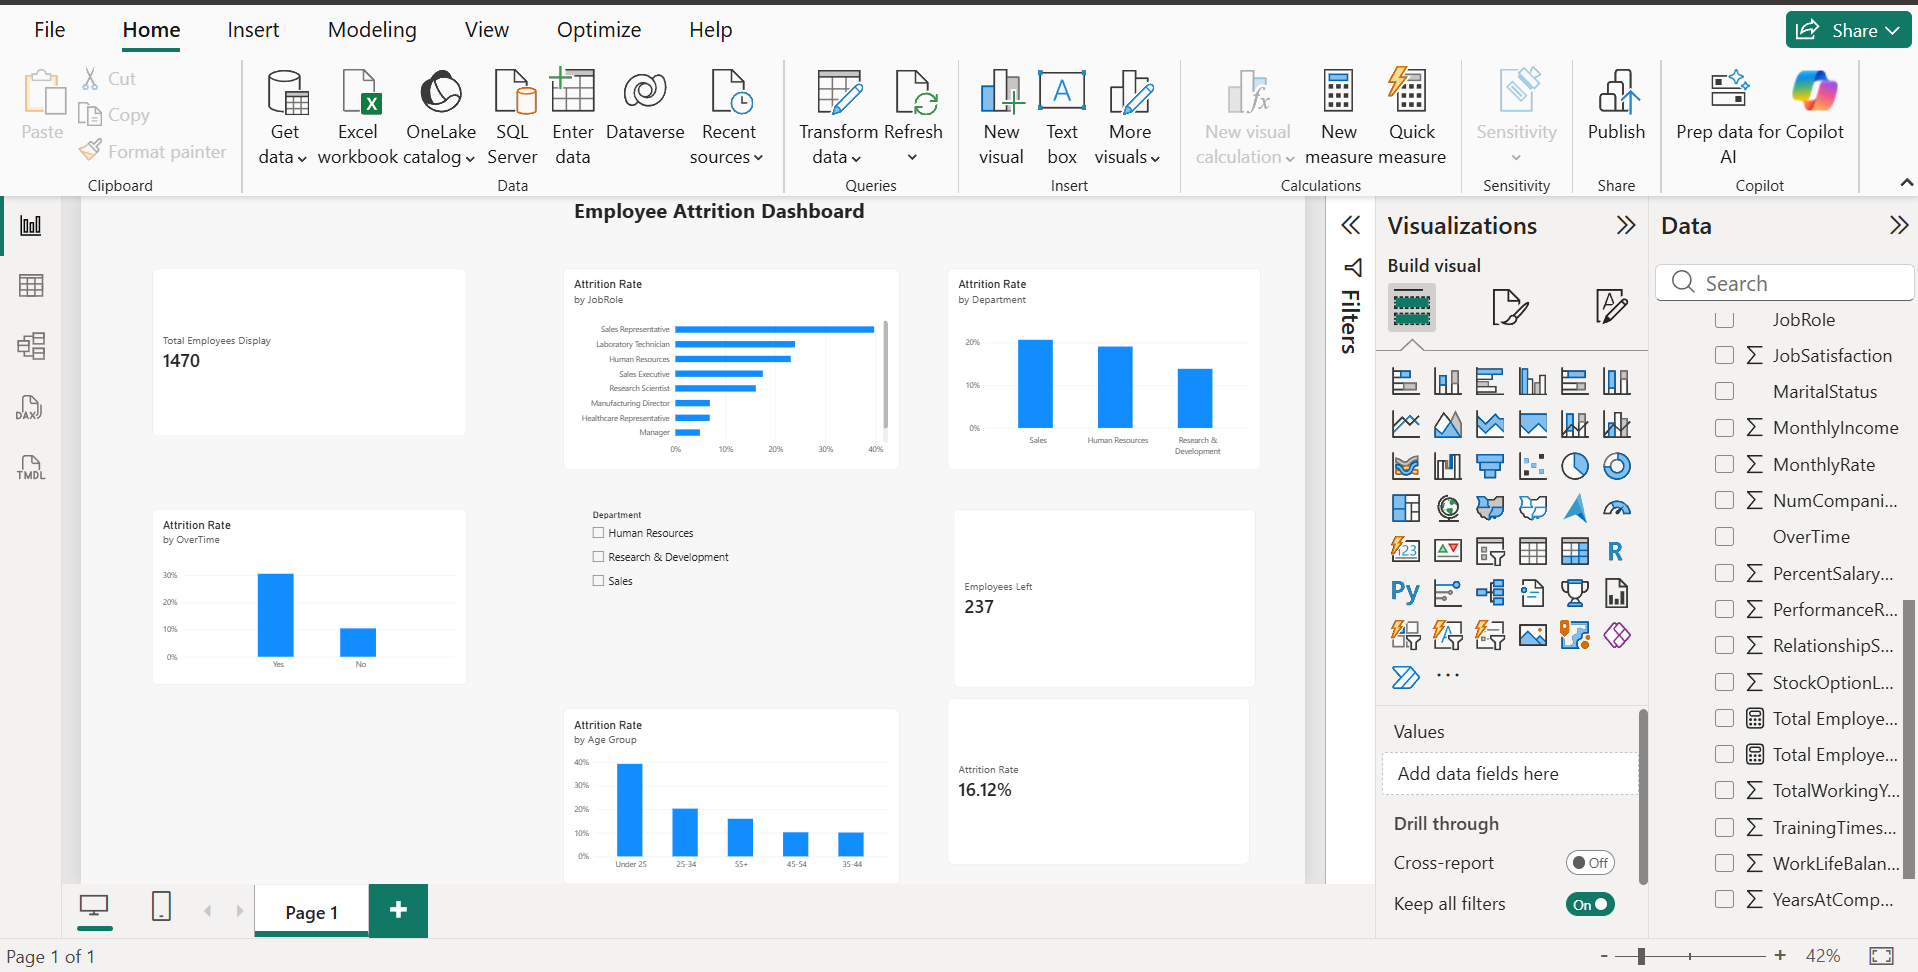

Layout of this report page (visuals, bound fields, positions):
{"tool":"powerbi","page":{"name":"Page 1","canvas":[1920,1080],"ordinal":0},"visuals":[{"type":"cardVisual","fields":{"Data":["Employee_Attrition_Cleaned.Total Employees"]},"box":[773.6,491.2,493.6,263.4],"z":0},{"type":"cardVisual","fields":{"Data":["Employee_Attrition_Cleaned.Employees Left"]},"box":[1369.3,491.2,474.6,280],"z":1},{"type":"clusteredColumnChart","fields":{"Category":["Employee_Attrition_Cleaned.Department"],"Y":["Employee_Attrition_Cleaned.Attrition Rate"]},"box":[1359.8,113.9,491.2,315.6],"z":2},{"type":"clusteredColumnChart","fields":{"Category":["Employee_Attrition_Cleaned.OverTime"],"Y":["Employee_Attrition_Cleaned.Attrition Rate"]},"box":[299,510.2,384.4,275.3],"z":3},{"type":"clusteredBarChart","fields":{"Category":["Employee_Attrition_Cleaned.JobRole"],"Y":["Employee_Attrition_Cleaned.Attrition Rate"]},"box":[757,113.9,526.8,315.6],"z":4},{"type":"slicer","fields":{"Values":["Employee_Attrition_Cleaned.Department"]},"box":[109.2,113.9,453.3,315.6],"z":5},{"type":"textbox","box":[180.4,474.6,576.7,313.3],"z":6},{"type":"textbox","box":[300,870,280,210],"z":7},{"type":"textbox","box":[773.6,0,1060.8,280],"z":8},{"type":"cardVisual","fields":{"Data":["Employee_Attrition_Cleaned.Attrition Rate"]},"box":[1359.8,787.9,474.6,261],"z":9},{"type":"clusteredColumnChart","fields":{"Category":["Employee_Attrition_Cleaned.Age Group"],"Y":["Employee_Attrition_Cleaned.Attrition Rate"]},"box":[757,804.5,526.8,275.3],"z":10}]}

Visuals, with their boxes on the page's 1920x1080 design canvas (x1, y1, x2, y2). These are canvas units, not pixel positions in the 1918x972 screenshot, which may show the page scaled, cropped or inside an application window:
cardVisual - Employee_Attrition_Cleaned.Total Employees: 774/491/1267/755
cardVisual - Employee_Attrition_Cleaned.Employees Left: 1369/491/1844/771
clusteredColumnChart - Employee_Attrition_Cleaned.Department x Employee_Attrition_Cleaned.Attrition Rate: 1360/114/1851/430
clusteredColumnChart - Employee_Attrition_Cleaned.OverTime x Employee_Attrition_Cleaned.Attrition Rate: 299/510/683/786
clusteredBarChart - Employee_Attrition_Cleaned.JobRole x Employee_Attrition_Cleaned.Attrition Rate: 757/114/1284/430
slicer - Employee_Attrition_Cleaned.Department: 109/114/562/430
textbox: 180/475/757/788
textbox: 300/870/580/1080
textbox: 774/0/1834/280
cardVisual - Employee_Attrition_Cleaned.Attrition Rate: 1360/788/1834/1049
clusteredColumnChart - Employee_Attrition_Cleaned.Age Group x Employee_Attrition_Cleaned.Attrition Rate: 757/804/1284/1080
